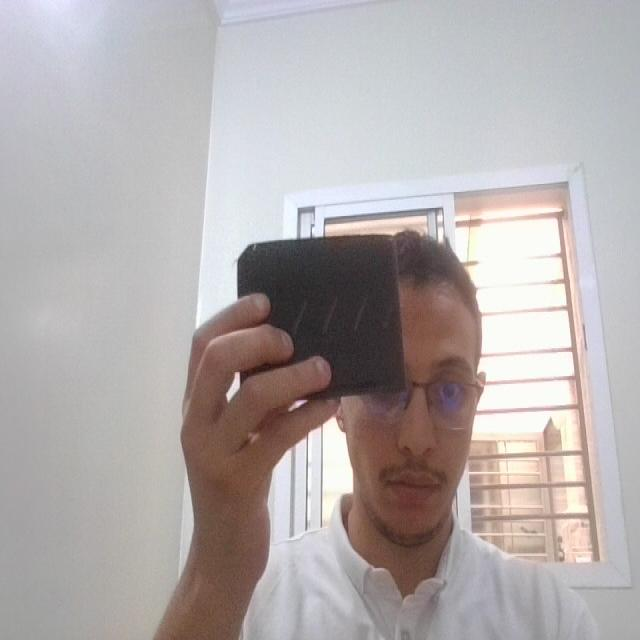wallet: (229, 228, 417, 418)
